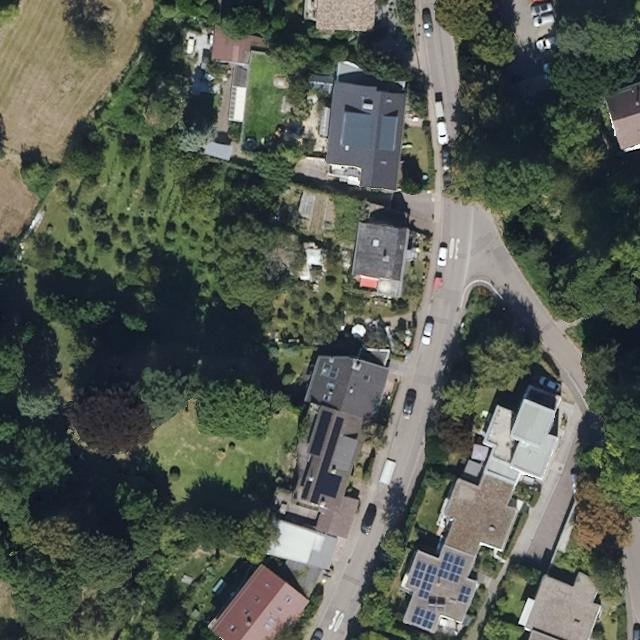PV: (310, 416, 345, 505), (408, 550, 467, 602), (309, 410, 332, 458), (409, 604, 438, 632), (456, 585, 473, 606), (300, 480, 312, 502), (429, 601, 445, 610)
